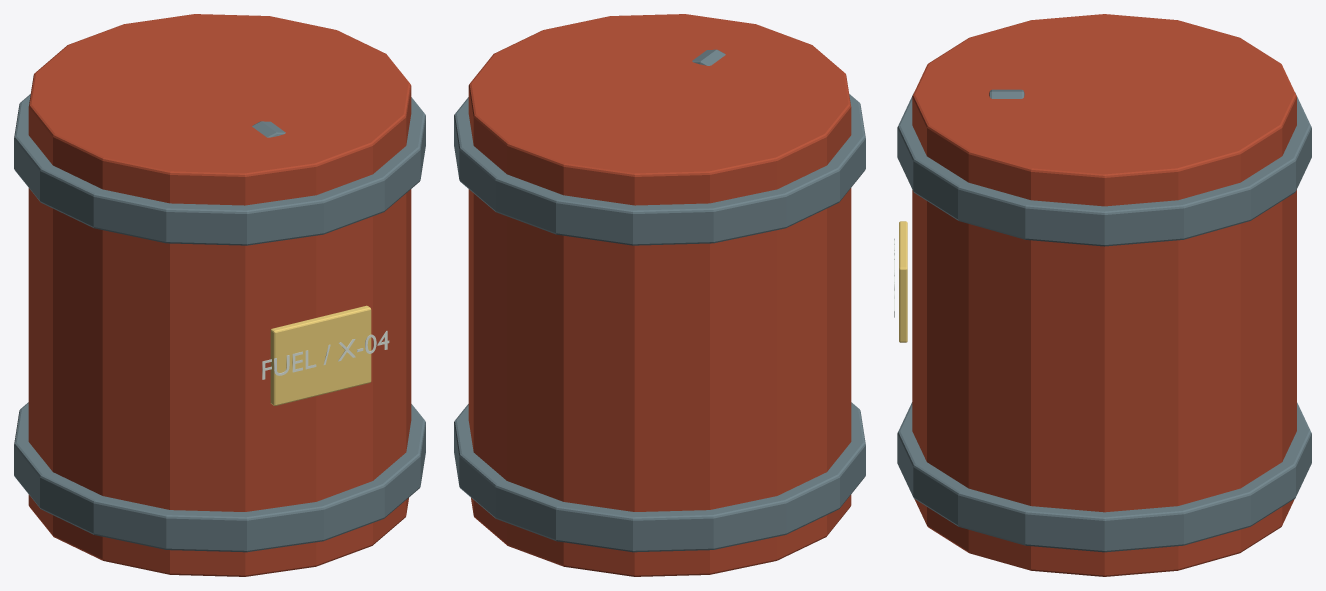
File: fuel_barrel_d0.glb
The picture shows the model from 3 angles, left to right: view 1: azimuth 30°, elevation 25°; view 2: azimuth 150°, elevation 25°; view 3: azimuth 270°, elevation 25°; orthographic projection.
Visible parts, largest first — view 1: Barrel body.006, Barrel rim.013, Barrel rim.012, Fuel placard.006, Hazard stencil.006; view 2: Barrel body.006, Barrel rim.013, Barrel rim.012; view 3: Barrel body.006, Barrel rim.013, Barrel rim.012, Fuel placard.006.
Part boxes in pixels (box(x1,y1,x2,y2)): Barrel body.006: box(28, 14, 411, 576); Barrel rim.013: box(14, 94, 425, 245); Barrel rim.012: box(14, 402, 425, 552); Fuel placard.006: box(270, 305, 371, 405); Hazard stencil.006: box(262, 331, 389, 379); Barrel body.006: box(468, 14, 851, 576); Barrel rim.013: box(454, 94, 865, 245); Barrel rim.012: box(454, 402, 865, 552); Barrel body.006: box(912, 14, 1296, 576); Barrel rim.013: box(897, 92, 1311, 246); Barrel rim.012: box(897, 402, 1311, 552); Fuel placard.006: box(899, 221, 907, 342).
Size of the model in its own units: 1.4 by 1.51 by 1.41.
